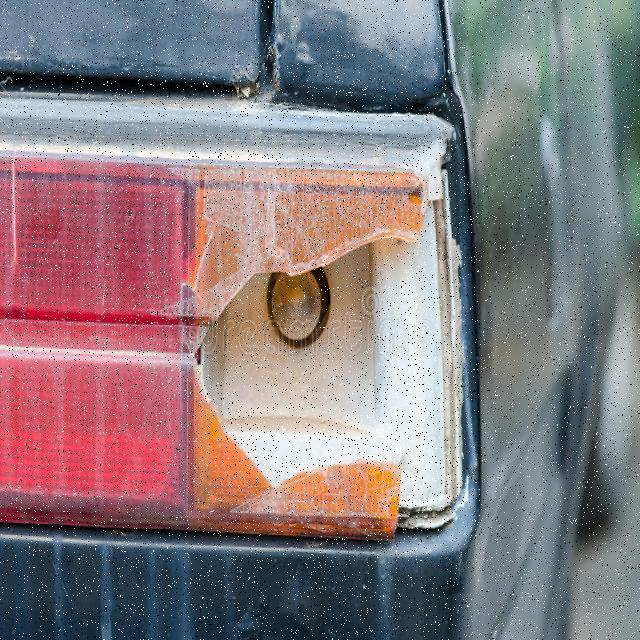Signlight-Damage: (178, 100, 483, 539)
Taillight-Damage: (0, 81, 510, 570)
